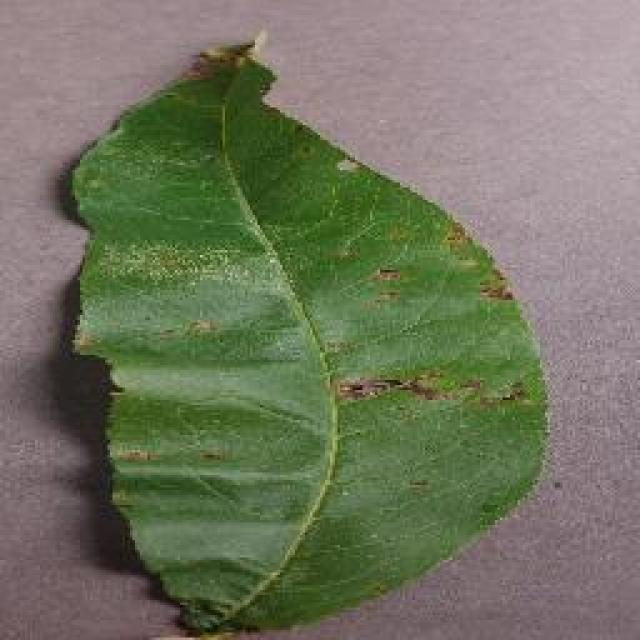Peach_Bacterial_Spot: (109, 157, 438, 468)
